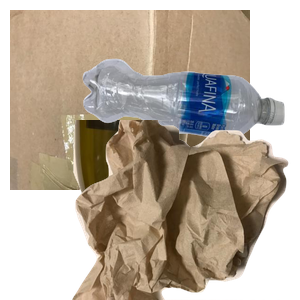cardboard: (10, 10, 250, 190)
glass: (71, 120, 254, 300)
plastic: (80, 56, 300, 187)
trash: (70, 120, 300, 300)
